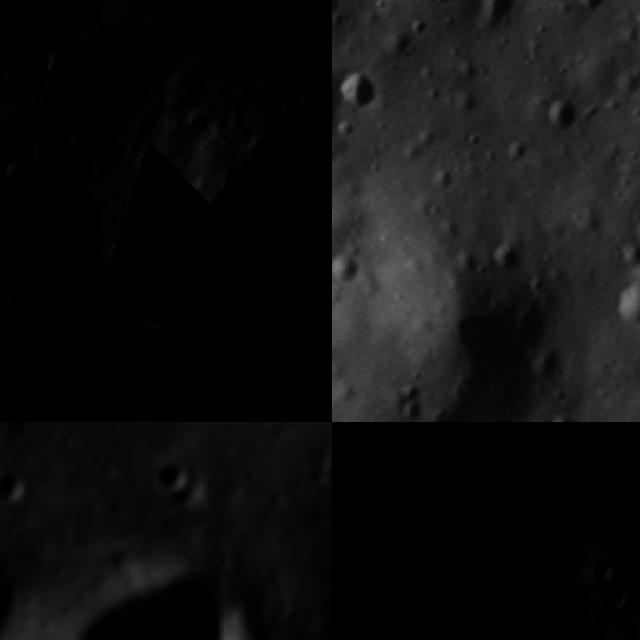crater: (120, 30, 332, 402), (332, 422, 583, 640), (407, 283, 580, 422), (48, 546, 281, 640), (0, 211, 41, 325), (332, 56, 388, 119), (457, 0, 531, 45), (481, 229, 532, 283), (602, 269, 640, 338), (532, 90, 586, 136), (142, 454, 197, 499), (0, 456, 35, 509), (208, 0, 279, 23), (61, 0, 127, 22), (332, 249, 362, 288), (428, 162, 460, 191), (503, 132, 530, 164), (396, 376, 423, 405), (617, 235, 640, 268), (395, 398, 426, 422), (320, 568, 332, 628), (568, 0, 609, 17), (542, 406, 584, 422), (631, 209, 640, 251)
